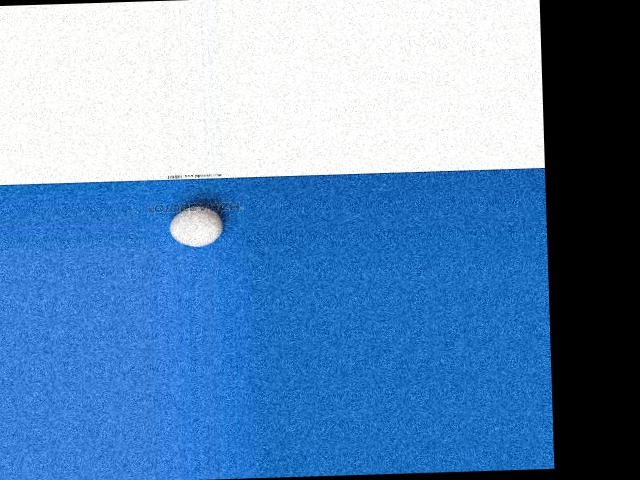egg: (169, 204, 223, 246)
